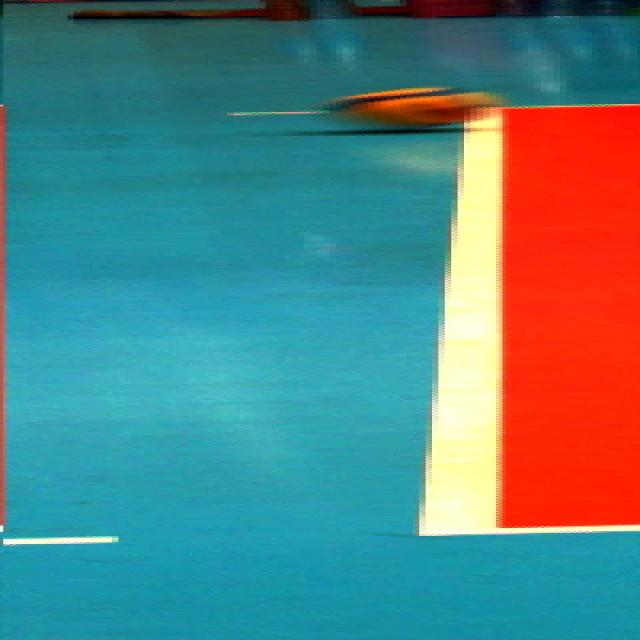Volleyball: (336, 85, 488, 124)
